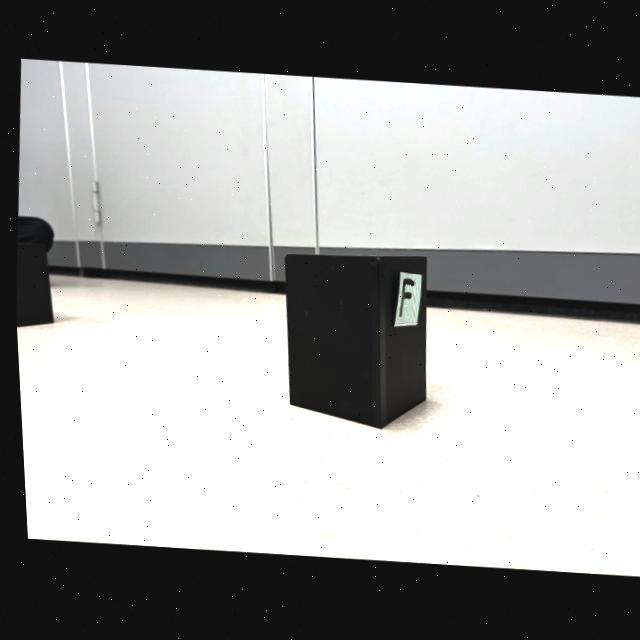F: (396, 279, 411, 318)
